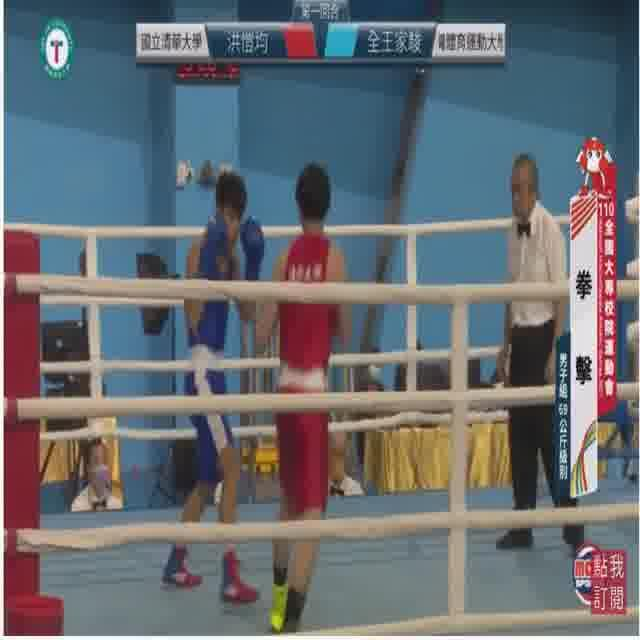blue-player: (160, 170, 267, 608)
red-player: (254, 156, 357, 637)
referee: (492, 150, 588, 560)
